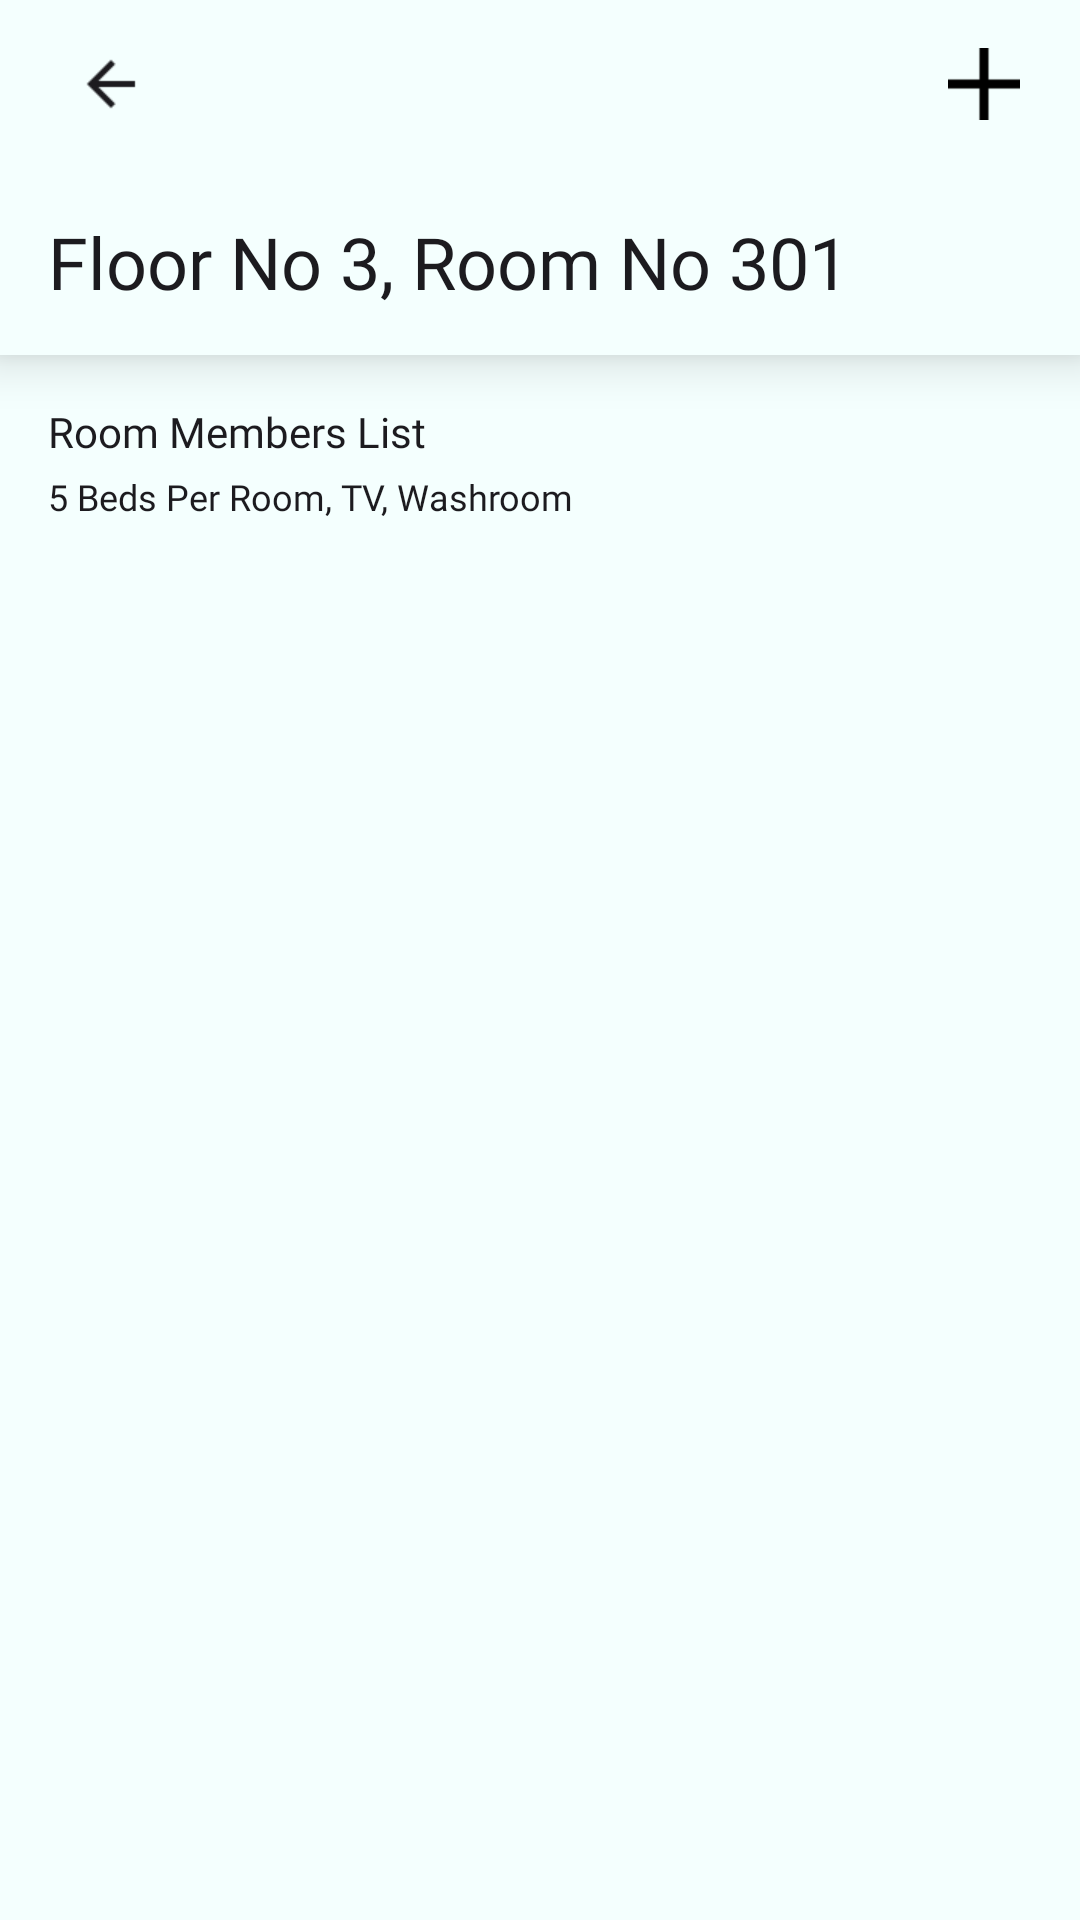

Screen size 1080w x 1920h. Icon name, then its box in pixels as Rect(x1, y1, x2, y2):
back: Rect(87, 60, 136, 108)
plus: Rect(948, 48, 1020, 120)
